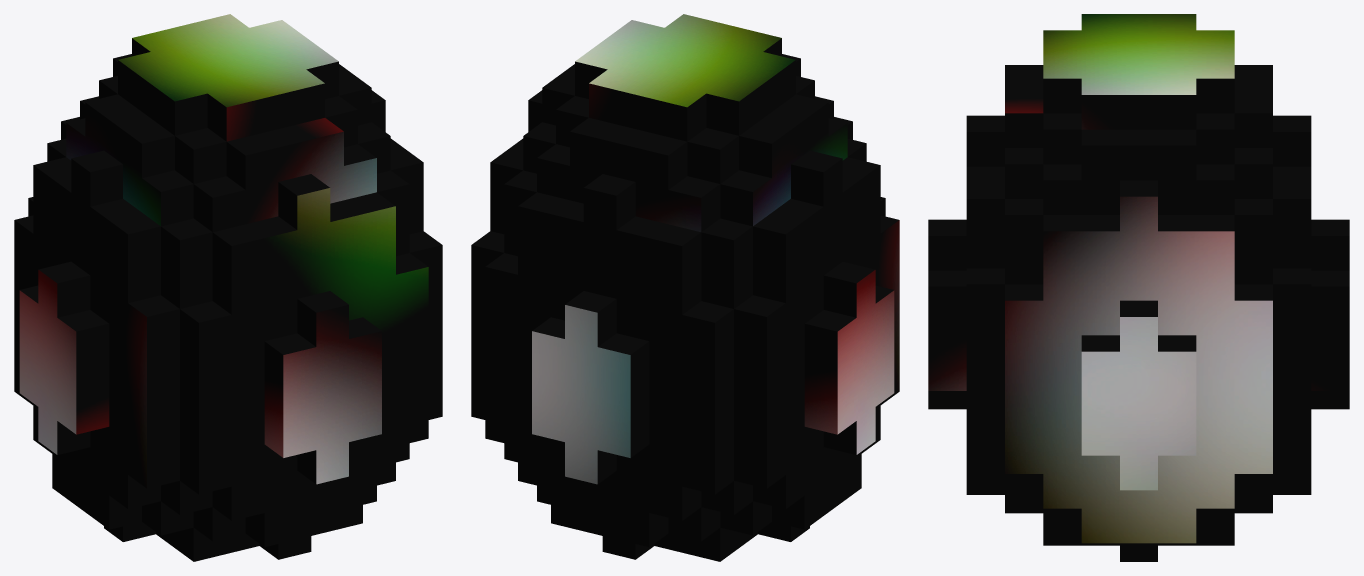
The model's file is MinecraftEgg.glb.
3 views of the same model, side by side, from view 1: azimuth 30°, elevation 25°; view 2: azimuth 150°, elevation 25°; view 3: azimuth 270°, elevation 25° (orthographic).
Visible parts, largest first — view 1: MinecraftEgg.001; view 2: MinecraftEgg.001; view 3: MinecraftEgg.001.
Part boxes in pixels (<box>): MinecraftEgg.001: <box>14,14,442,561</box>; MinecraftEgg.001: <box>471,14,899,561</box>; MinecraftEgg.001: <box>928,14,1349,561</box>.
Bounding box in the file's own units: 73.18 × 86.48 × 73.18.
1 material, 1 textured.
